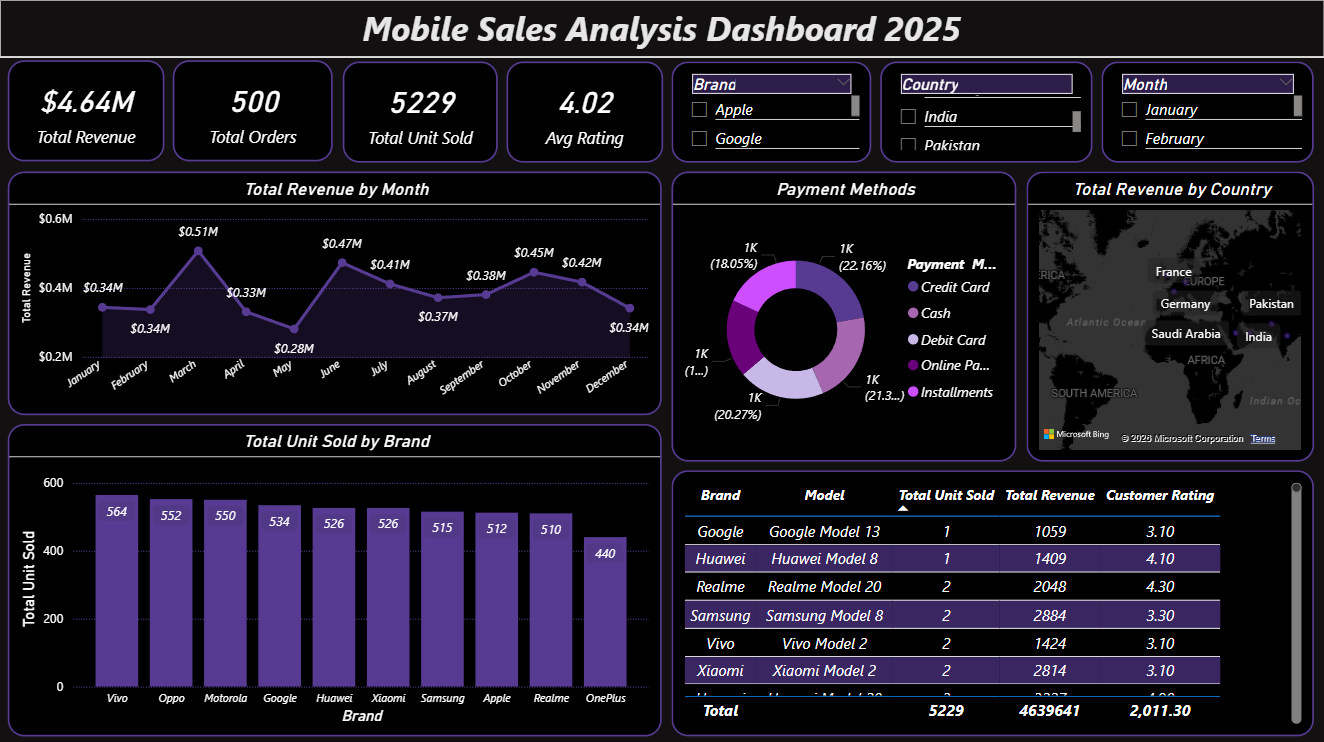

This screenshot's page, from the dashboard's own definition file:
{"tool":"powerbi","page":{"name":"Page 1","canvas":[1280,720],"ordinal":0},"visuals":[{"type":"card","fields":{"Values":["Measure Table.Total Revenue"]},"box":[8.4,59.1,150.8,97.7],"z":0},{"type":"card","fields":{"Values":["Measure Table.Total Sales"]},"box":[167.7,59.1,154.4,97.7],"z":1000},{"type":"card","fields":{"Values":["Measure Table.Total Unit Sold"]},"box":[331.8,60.3,149.6,97.7],"z":2000},{"type":"card","fields":{"Values":["Measure Table.Avg Rating"]},"box":[489.8,60.3,150.8,97.7],"z":3000},{"type":"clusteredColumnChart","fields":{"Category":["synthetic_mobile_sales_2025.Brand"],"Y":["Measure Table.Total Unit Sold"]},"box":[8.4,410.2,631,301.6],"z":4000},{"type":"lineChart","title":"Total Revenue by Month","fields":{"Y":["Measure Table.Total Revenue"],"Category":["synthetic_mobile_sales_2025.Month_Name"]},"box":[8.4,166.5,631,235.3],"z":5000},{"type":"donutChart","title":"Payment Methods","fields":{"Category":["synthetic_mobile_sales_2025.Payment_Method"],"Y":["Measure Table.Total Unit Sold"]},"box":[649.1,166.5,333,279.9],"z":6000},{"type":"map","fields":{"Category":["synthetic_mobile_sales_2025.Country"],"X":["Measure Table.Total Revenue"]},"box":[991.7,166.5,277.5,279.9],"z":7000},{"type":"tableEx","fields":{"Values":["synthetic_mobile_sales_2025.Brand","synthetic_mobile_sales_2025.Model","Measure Table.Total Unit Sold","Measure Table.Total Revenue","Sum(synthetic_mobile_sales_2025.Customer_Rating)"]},"box":[649.1,454.8,620.1,257],"z":8000},{"type":"textbox","box":[0,0,1280,56.7],"z":9000},{"type":"slicer","fields":{"Values":["synthetic_mobile_sales_2025.Brand"]},"box":[649.1,60.3,193,97.7],"z":10000},{"type":"slicer","fields":{"Values":["synthetic_mobile_sales_2025.Country"]},"box":[850.5,60.3,205.1,97.7],"z":11000},{"type":"slicer","fields":{"Values":["synthetic_mobile_sales_2025.Month_Name"]},"box":[1064.1,60.3,205.1,97.7],"z":12000}]}

Visuals, with their boxes in screenshot pixels (x1, y1, x2, y2), scaled from the page's 1280x720 canvas onto the 1324x742 screenshot:
card - Measure Table.Total Revenue: 9/61/165/162
card - Measure Table.Total Sales: 173/61/333/162
card - Measure Table.Total Unit Sold: 343/62/498/163
card - Measure Table.Avg Rating: 507/62/663/163
clusteredColumnChart - synthetic_mobile_sales_2025.Brand x Measure Table.Total Unit Sold: 9/423/661/734
"Total Revenue by Month" lineChart: 9/172/661/414
"Payment Methods" donutChart: 671/172/1016/460
map - synthetic_mobile_sales_2025.Country x Measure Table.Total Revenue: 1026/172/1313/460
tableEx - synthetic_mobile_sales_2025.Brand x synthetic_mobile_sales_2025.Model: 671/469/1313/734
textbox: 0/0/1323/58
slicer - synthetic_mobile_sales_2025.Brand: 671/62/871/163
slicer - synthetic_mobile_sales_2025.Country: 880/62/1092/163
slicer - synthetic_mobile_sales_2025.Month_Name: 1101/62/1313/163
